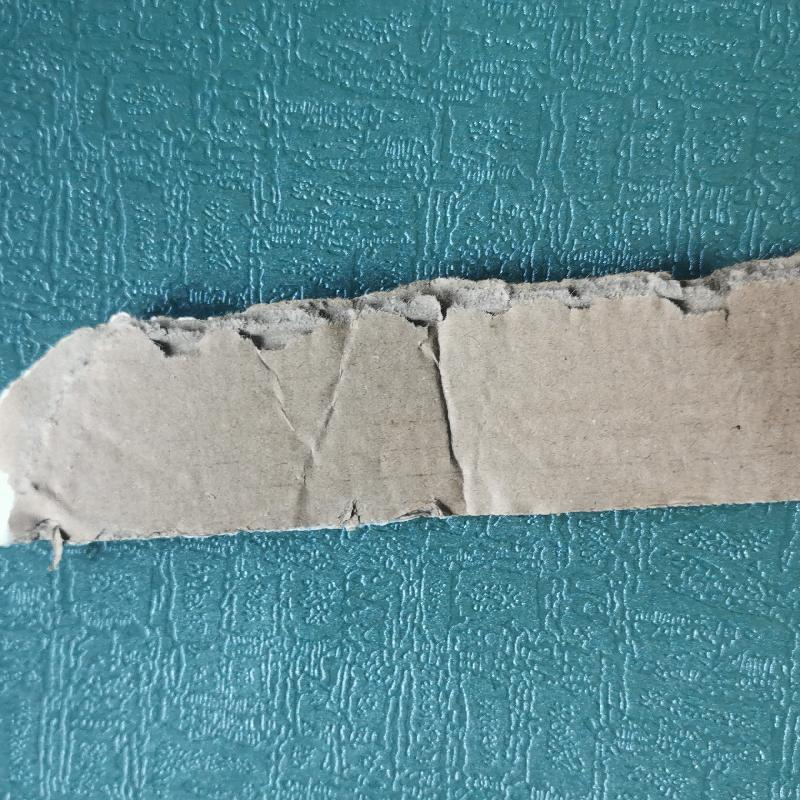boxes: (19, 242, 800, 563)
